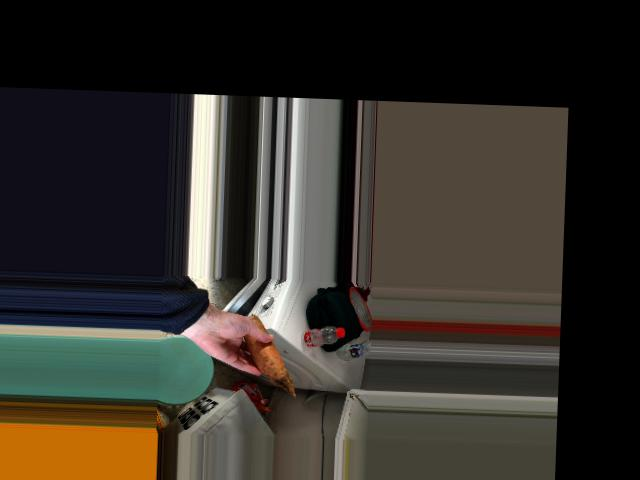sweet_potato: (246, 323, 284, 375)
